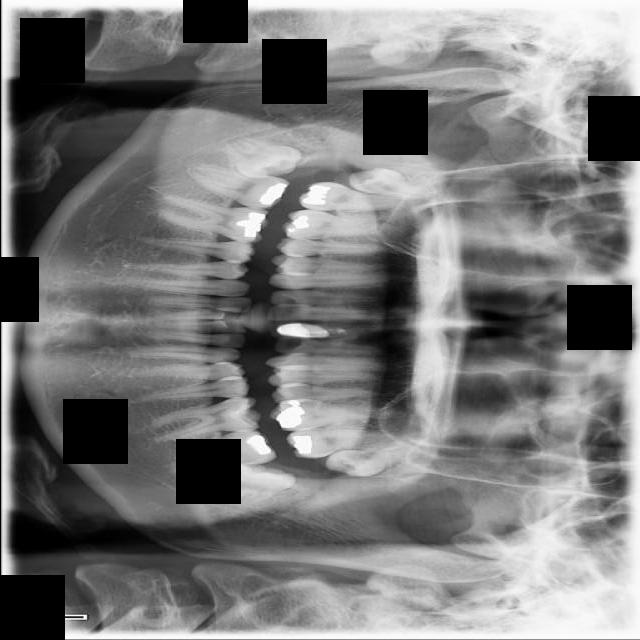3M ESPE Implant: (344, 163, 437, 203)
52: (234, 165, 294, 223), (222, 198, 273, 251), (223, 422, 277, 471), (283, 421, 336, 465), (269, 397, 325, 434), (280, 207, 335, 241), (298, 181, 349, 212), (267, 320, 328, 341)
BioHorizons Implant: (286, 428, 404, 458)
BioLife Implant: (323, 438, 426, 483)
Biomet 3i Implant: (221, 459, 296, 510)
Blue Sky Bio Implant: (171, 425, 277, 473)
Caries: (298, 179, 413, 212)
Implant: (185, 162, 290, 214)
Keystone Dental Implant: (217, 132, 303, 187)
